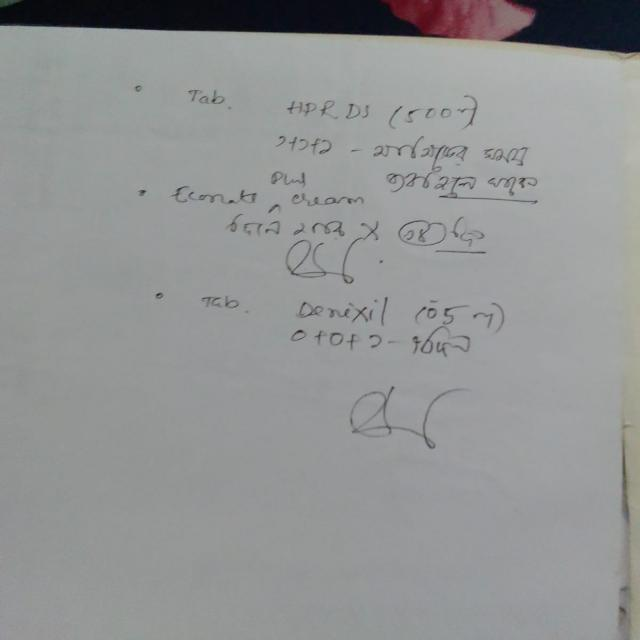Denixil: (282, 291, 397, 332)
Econate Plus: (160, 164, 366, 215)
HPR-DS: (280, 94, 383, 127)
